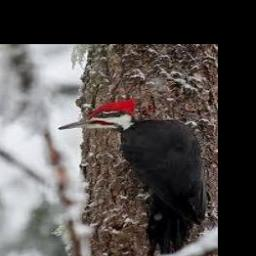Woodpecker: (59, 98, 200, 256)
